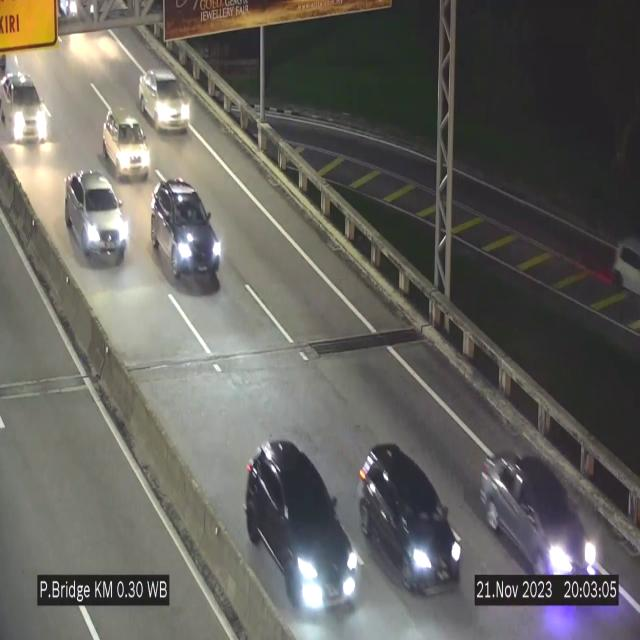Car: (238, 432, 356, 610), (358, 440, 462, 596), (480, 449, 600, 576), (150, 180, 222, 284), (65, 170, 128, 260), (0, 71, 48, 149), (103, 104, 151, 181), (138, 69, 190, 131)
